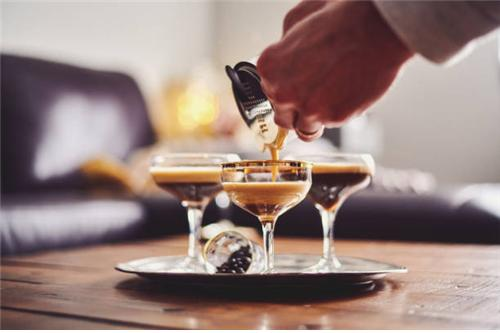alcohol: (289, 153, 378, 272), (222, 158, 313, 273), (152, 152, 235, 270)
